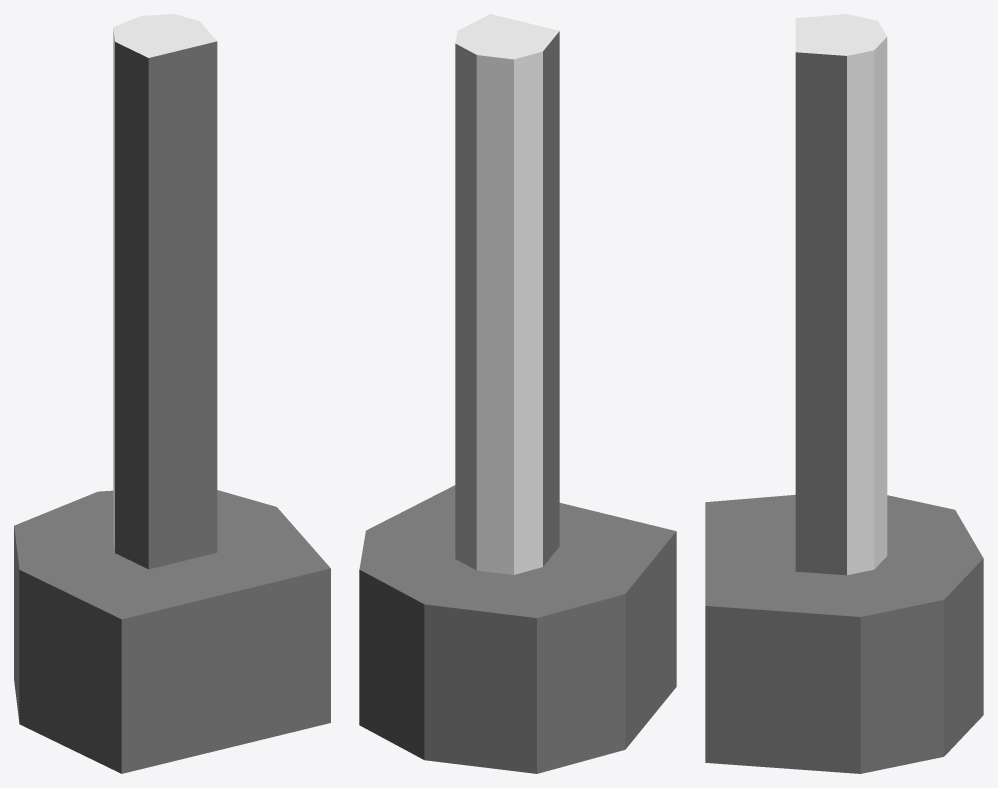
Rendered from wcharja.FBX.
3 renders of one model, left to right at view 1: azimuth 30°, elevation 25°; view 2: azimuth 150°, elevation 25°; view 3: azimuth 270°, elevation 25°, orthographic.
Parts seen in each view (by area): view 1: wcharja; view 2: wcharja; view 3: wcharja.
Boxes of the visible parts, x1,y1,x2,y2 form: wcharja: [14, 14, 330, 773]; wcharja: [359, 14, 676, 773]; wcharja: [705, 14, 983, 773].
Size of the model in its own units: 32.16 by 79.51 by 29.63.
